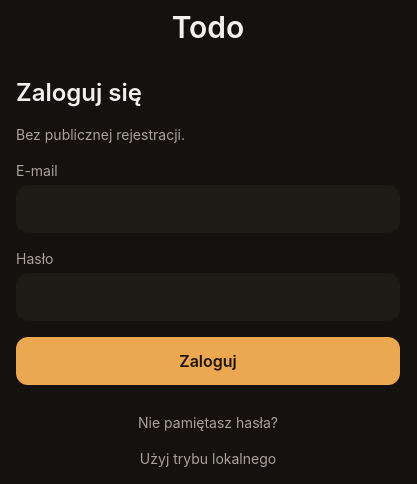
Test: AuthRouter › navigates from login to reset when forgot link is clicked
This screenshot has width=417, height=484.
Step 1. Click the button "Nie pamiętasz hasła?" → point(208, 423), box [138,409,278,437]
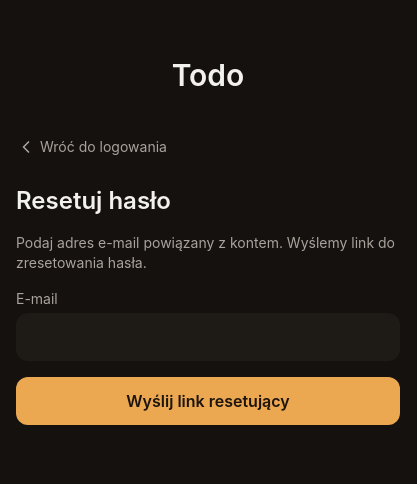
Expected: the heading "Resetuj hasło" is shown, [16,186,171,215]
